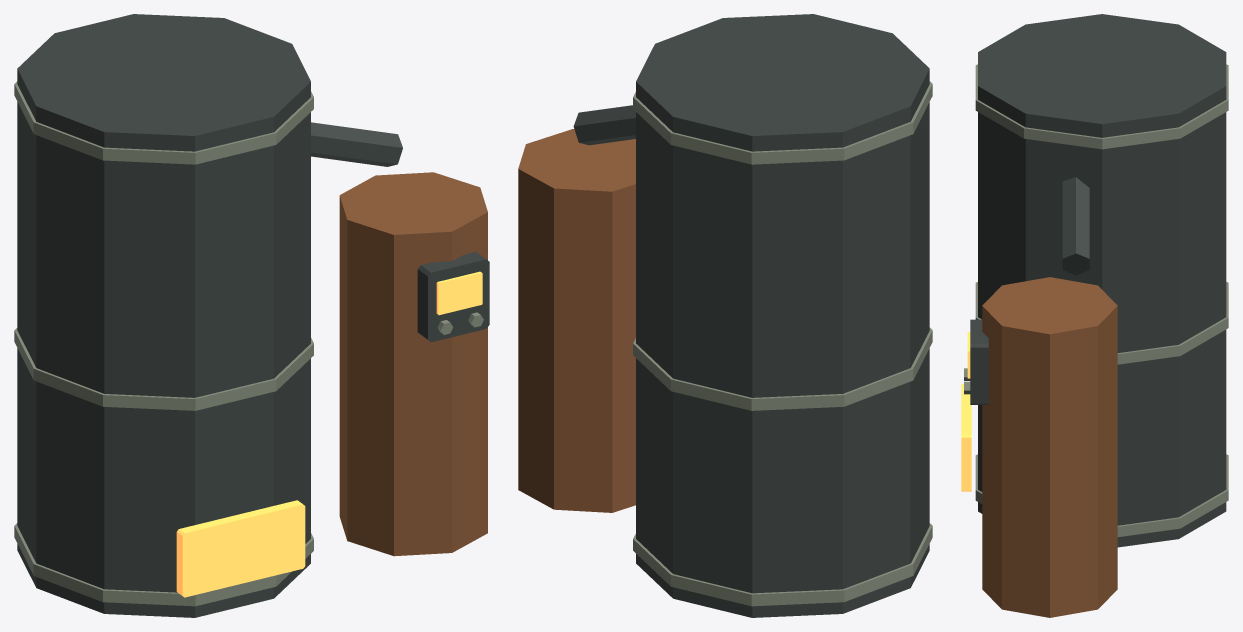
Rendered from Refinery.gltf.
The picture shows the model from 3 angles, left to right: view 1: azimuth 30°, elevation 25°; view 2: azimuth 150°, elevation 25°; view 3: azimuth 270°, elevation 25°; orthographic projection. The views are drawn at different scales.
Parts seen in each view (by area): view 1: Refinery; view 2: Refinery; view 3: Refinery.
Boxes of the visible parts, x1,y1,x2,y2 form: Refinery: (14, 14, 489, 617); Refinery: (518, 14, 932, 617); Refinery: (961, 14, 1228, 617).
Bounding box in the file's own units: 0.815 × 0.9 × 0.5125.
